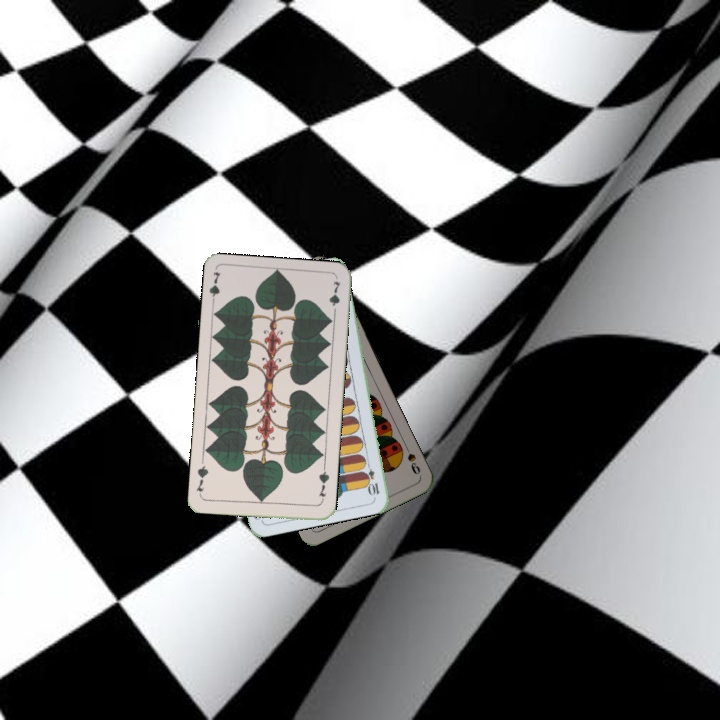E10: (362, 458, 382, 498)
G7: (205, 268, 223, 309), (315, 465, 332, 505)
S9: (400, 439, 423, 477)
